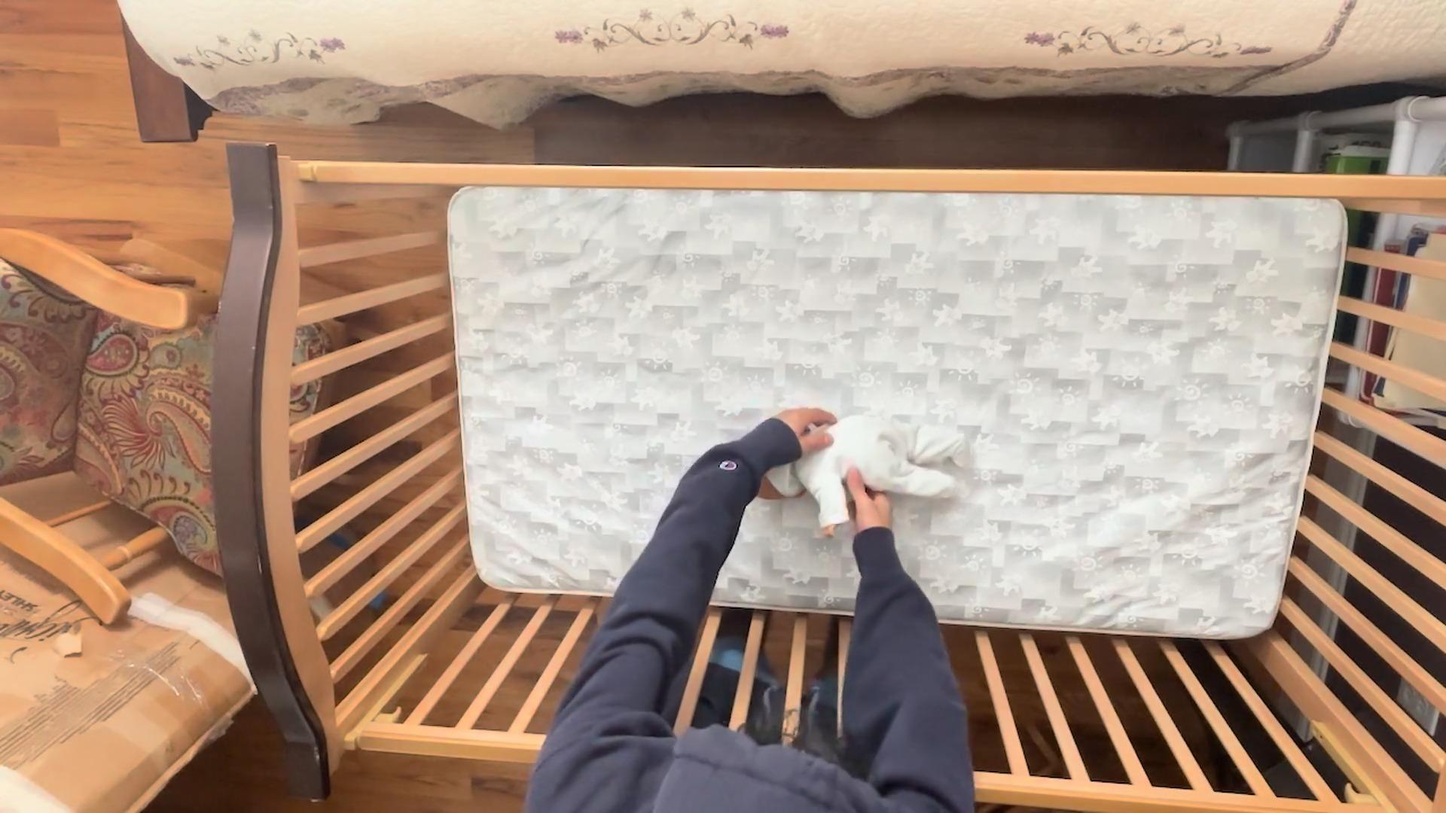baby: (762, 413, 970, 539)
